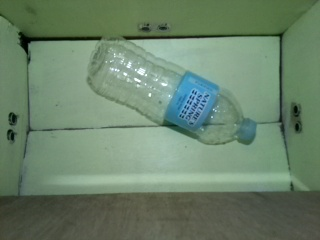bottle: (87, 35, 256, 145)
